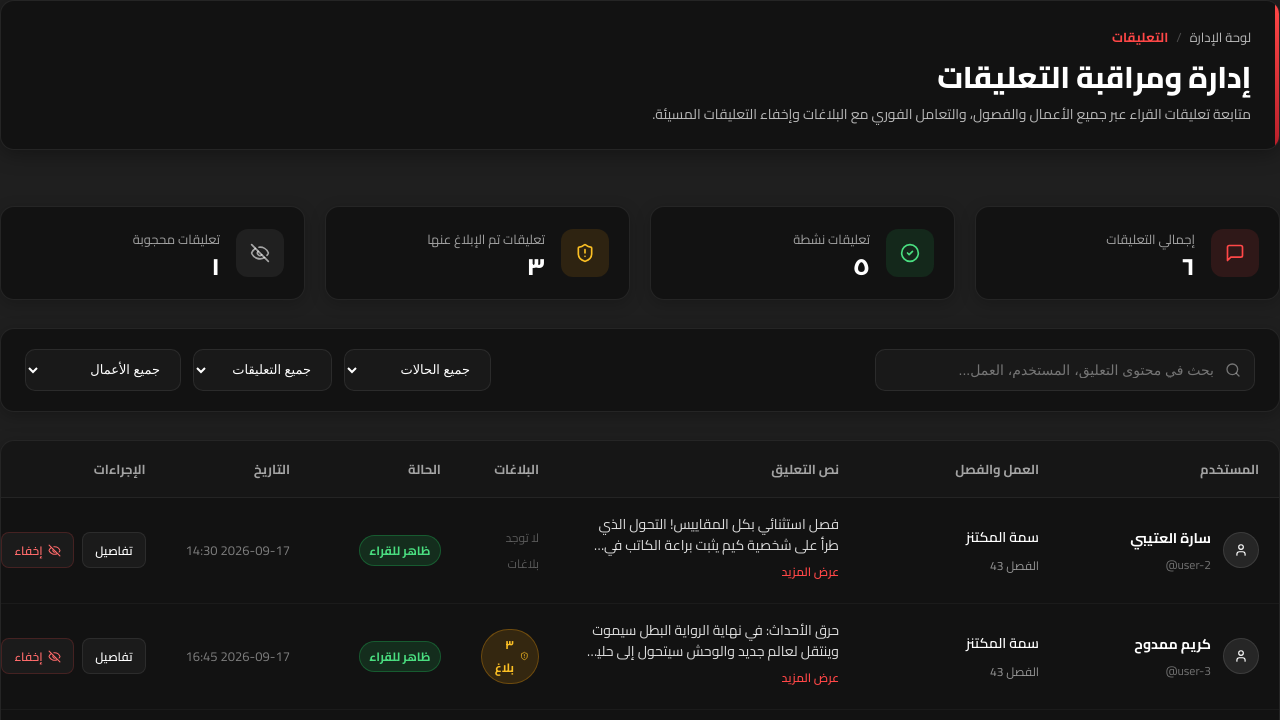
Test: AdminComments Component › filters comments by search query matching content or author
Type "حرق الأحداث" into the field named "بحث في التعليقات" at point(1065, 370), box [875,349,1255,391]
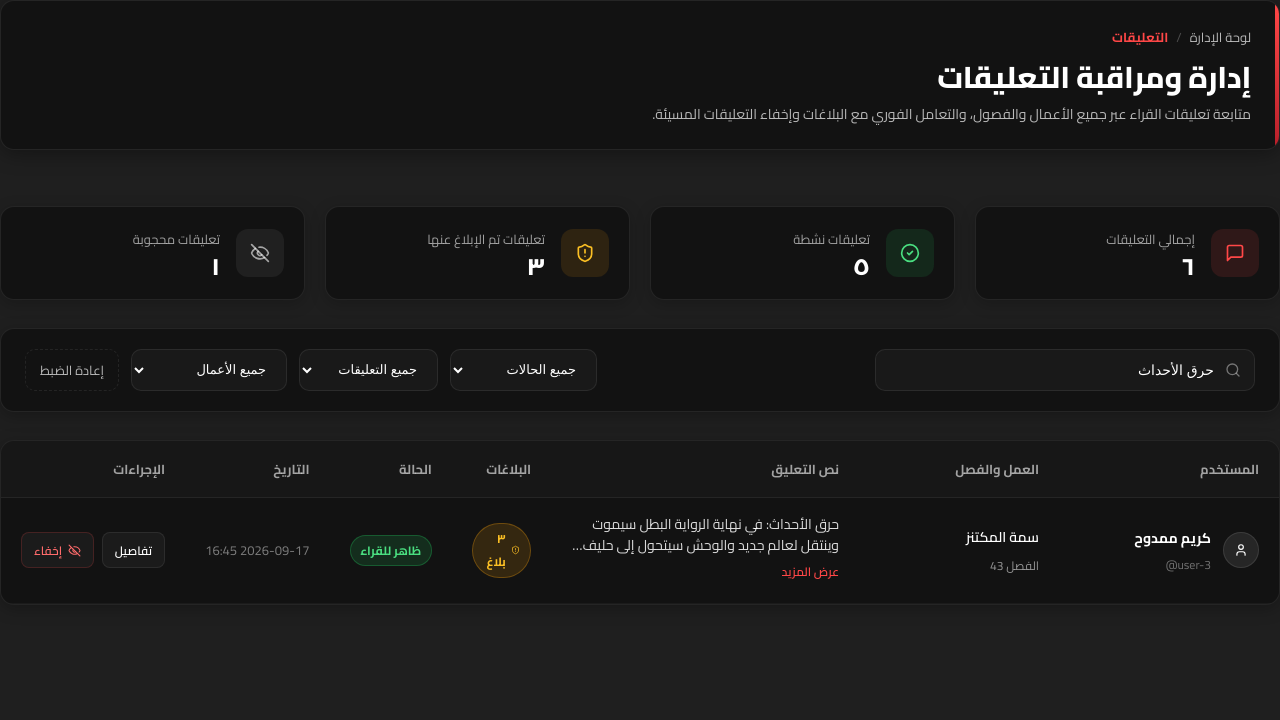
Expected: the text "حرق الأحداث: في نهاية الرواية البطل سيموت" is shown, [580,511,839,600]
Now the text "فصل استثنائي بكل المقاييس" is gone
